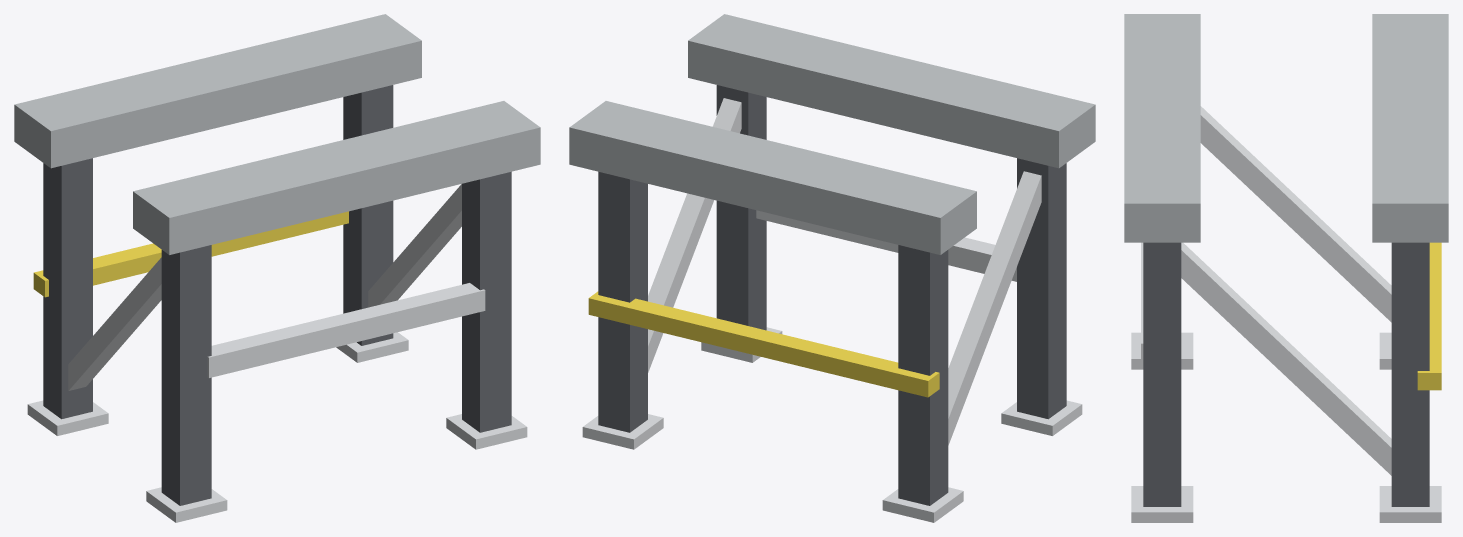
File: conveyor-leg-and-support-frame.glb
3 renders of one model, left to right at view 1: azimuth 30°, elevation 25°; view 2: azimuth 150°, elevation 25°; view 3: azimuth 270°, elevation 25°, orthographic. The views are drawn at different scales.
Visible parts, largest first — view 1: parcel-depot-and-sorting-hall-conveyor-leg-support-frame; view 2: parcel-depot-and-sorting-hall-conveyor-leg-support-frame; view 3: parcel-depot-and-sorting-hall-conveyor-leg-support-frame.
Part boxes in pixels (x1,y1,x2,y2): parcel-depot-and-sorting-hall-conveyor-leg-support-frame: [14, 14, 540, 522]; parcel-depot-and-sorting-hall-conveyor-leg-support-frame: [569, 14, 1095, 522]; parcel-depot-and-sorting-hall-conveyor-leg-support-frame: [1124, 14, 1448, 522].
Bounding box in the file's own units: 0.94 × 0.75 × 0.6799.
